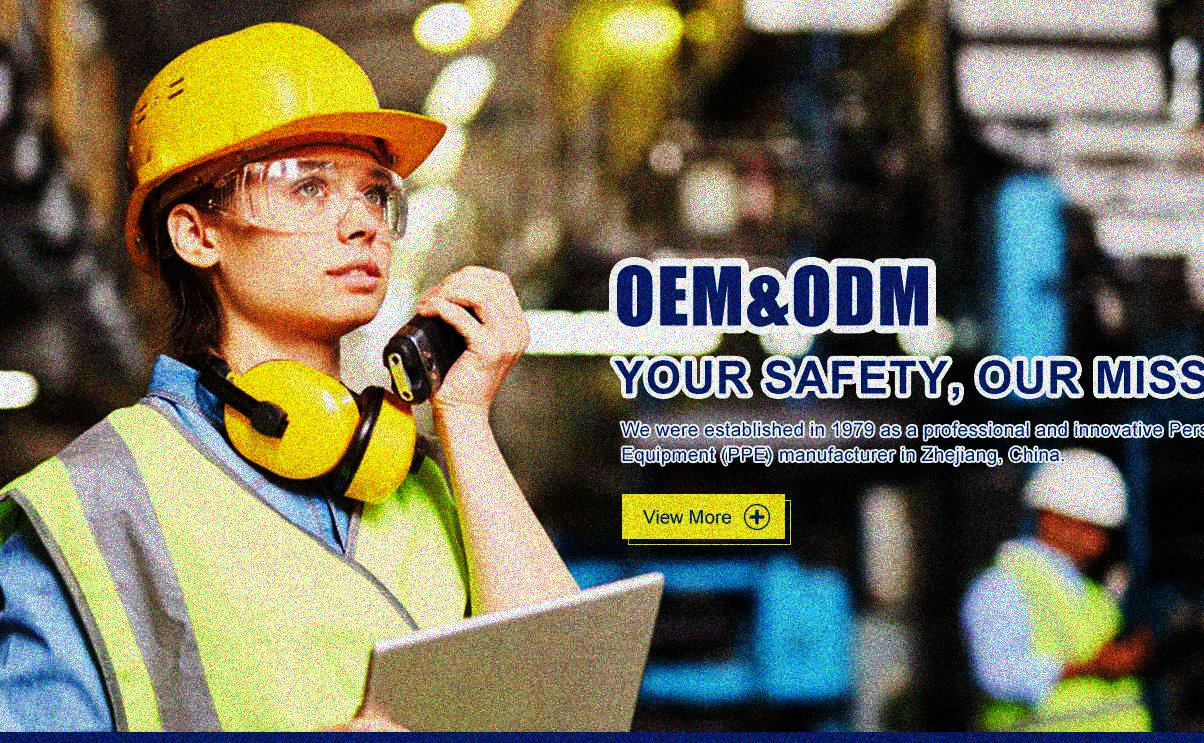helmet: (120, 22, 447, 338), (1022, 447, 1130, 563)
